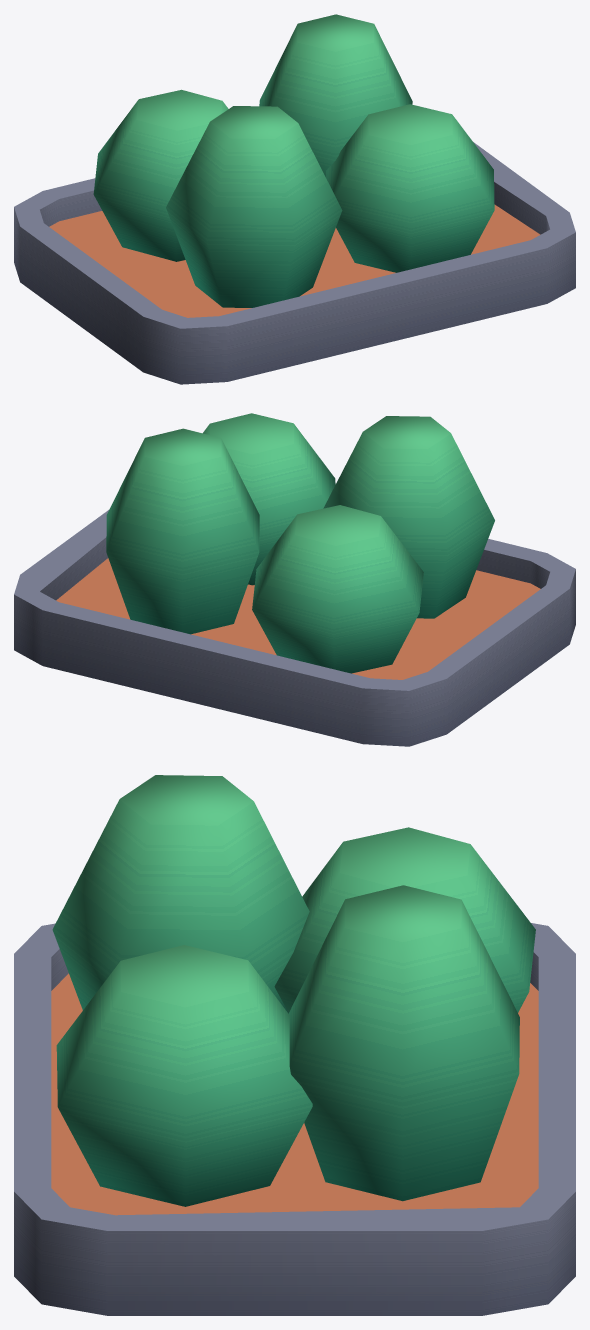
File: planter.glb
3 renders of one model, top to bottom at view 1: azimuth 30°, elevation 25°; view 2: azimuth 150°, elevation 25°; view 3: azimuth 270°, elevation 25°, orthographic. The views are drawn at different scales.
Visible parts, largest first — view 1: planter; view 2: planter; view 3: planter.
Boxes of the visible parts, <box> form: planter: <box>14,14,575,384</box>; planter: <box>14,413,575,746</box>; planter: <box>14,775,575,1315</box>.
Size of the model in its own units: 0.4 by 0.1771 by 0.3.
1 material, 1 textured.
